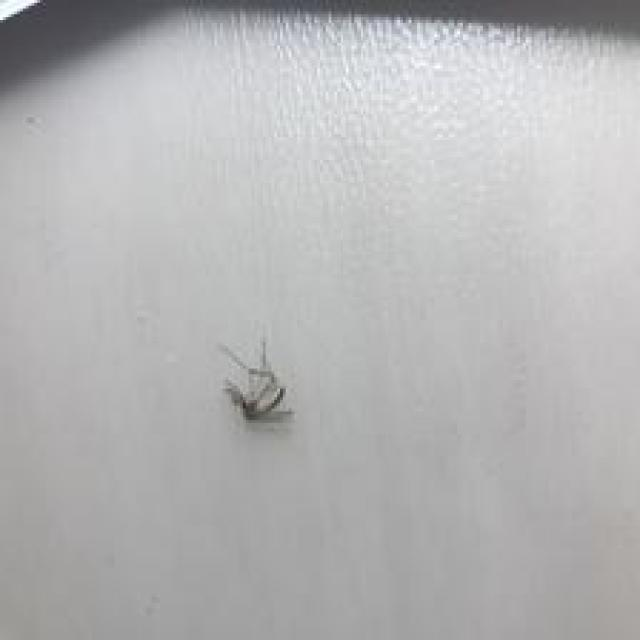Culex: (217, 336, 292, 421)
